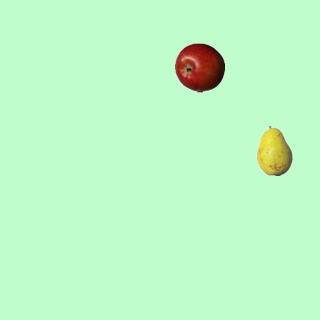Apple Braeburn: (174, 42, 224, 92)
Pear Monster: (249, 125, 299, 175)
